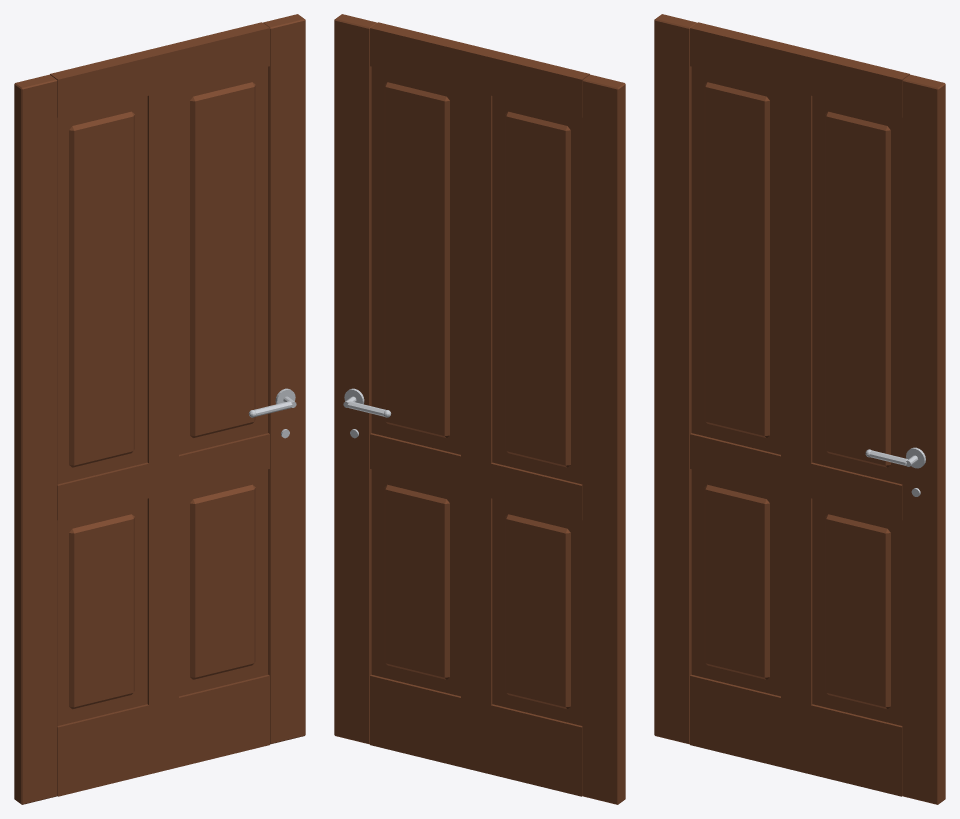
The model's file is porta_classica_4_madeira.glb.
3 renders of one model, left to right at view 1: azimuth 30°, elevation 25°; view 2: azimuth 150°, elevation 25°; view 3: azimuth 330°, elevation 25°, orthographic.
Parts seen in each view (by area): view 1: porta_classica_4_madeira; view 2: porta_classica_4_madeira; view 3: porta_classica_4_madeira.
Boxes of the visible parts, x1,y1,x2,y2 form: porta_classica_4_madeira: [14, 14, 305, 804]; porta_classica_4_madeira: [334, 14, 625, 804]; porta_classica_4_madeira: [654, 14, 945, 804].
Size of the model in its own units: 0.86 by 2.07 by 0.143.
